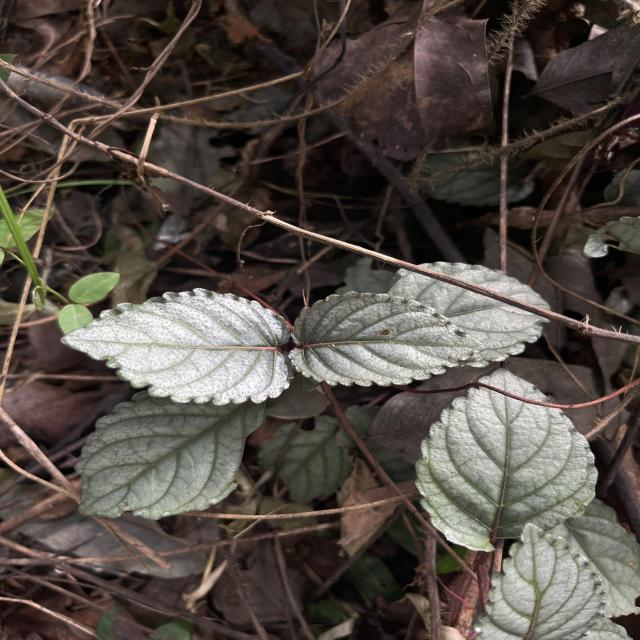Hemigraphis colorata: (411, 364, 603, 554), (56, 286, 294, 407), (72, 392, 270, 524), (287, 290, 489, 388), (469, 518, 609, 640)
